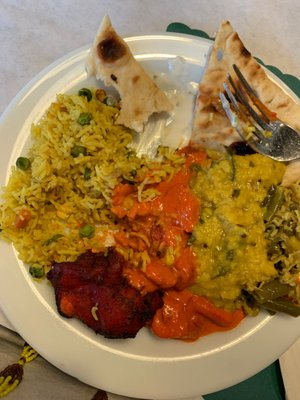burger: (219, 64, 300, 163)
